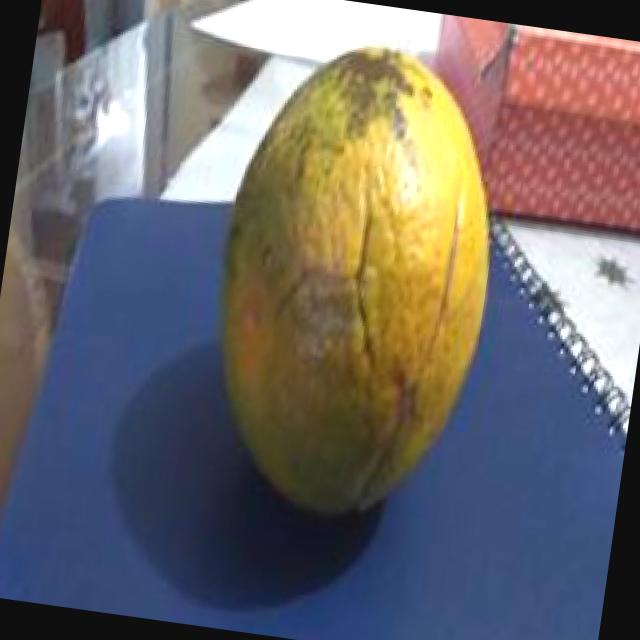Rotten_Orange: (167, 22, 532, 536)
